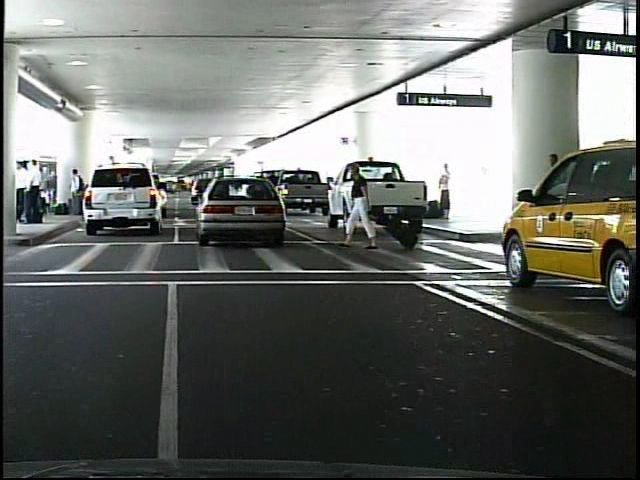person: (347, 161, 381, 253), (434, 160, 458, 220), (31, 159, 47, 227), (72, 165, 88, 221), (17, 160, 30, 222)
